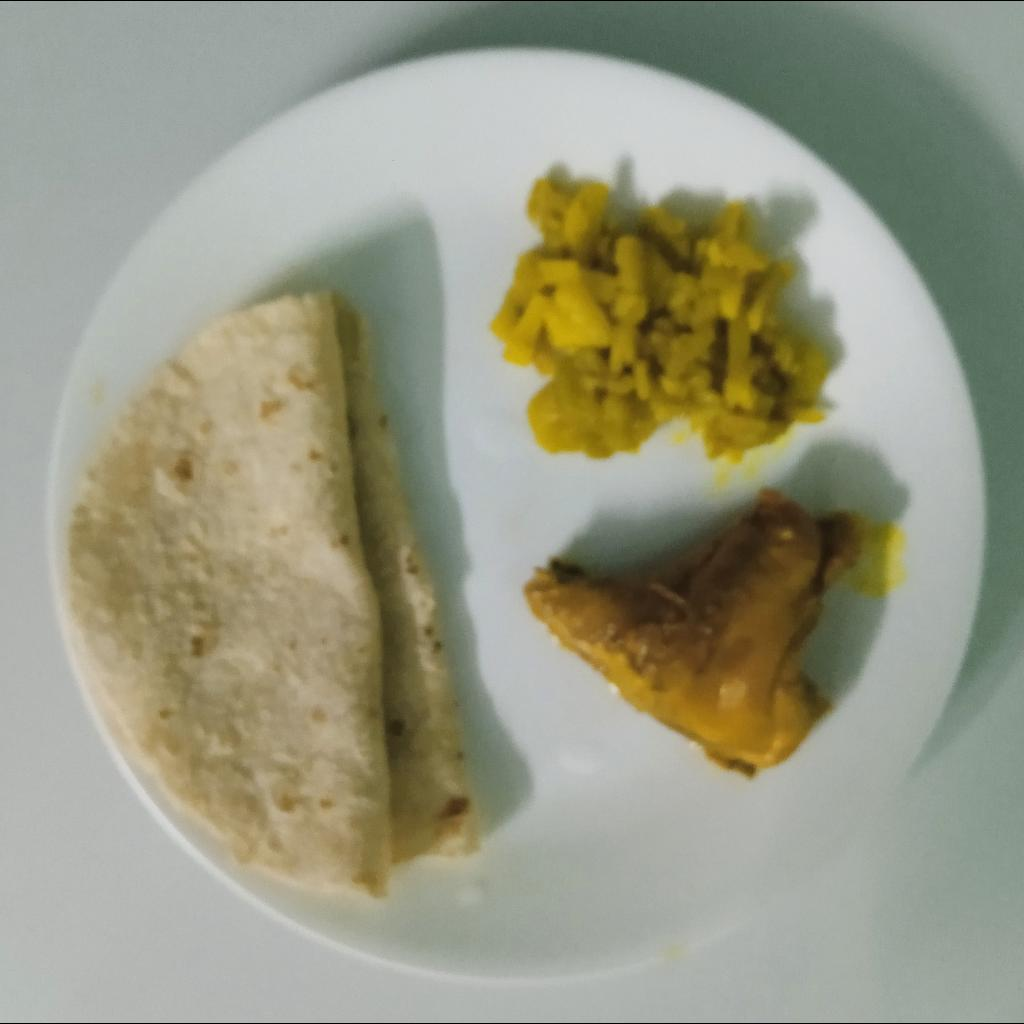chicken: (528, 489, 868, 773)
lau: (485, 174, 828, 469)
ruti: (60, 277, 493, 904)
